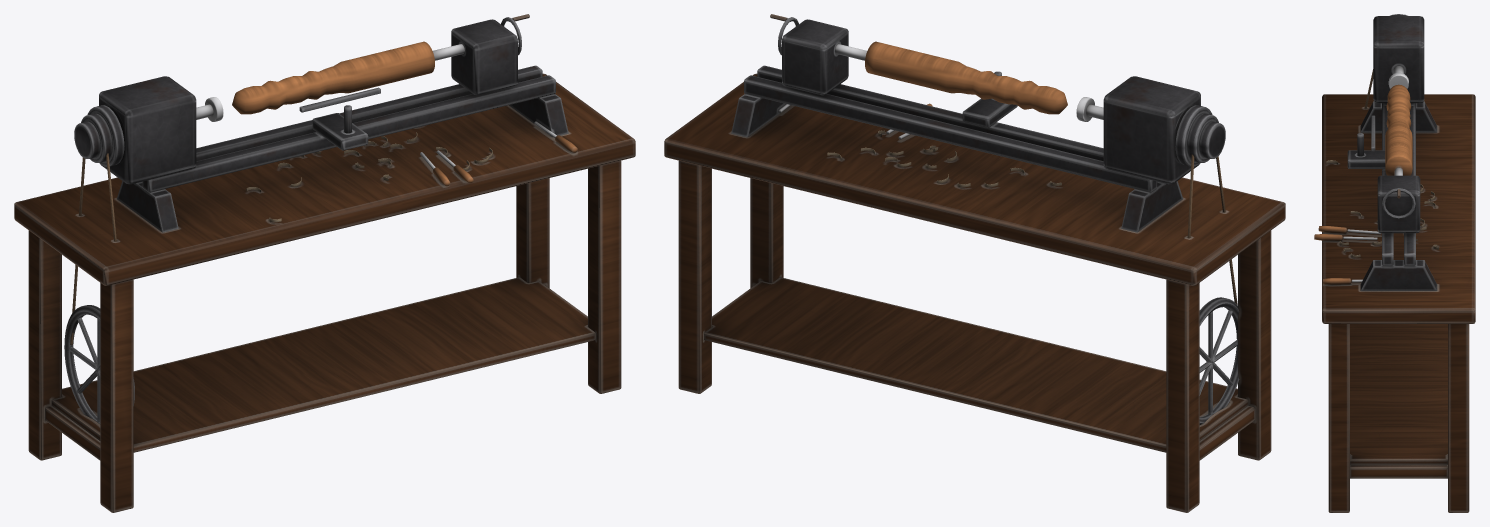
The model's file is WoodLathe.fbx.
3 renders of one model, left to right at view 1: azimuth 30°, elevation 25°; view 2: azimuth 150°, elevation 25°; view 3: azimuth 270°, elevation 25°, orthographic. The views are drawn at different scales.
Parts seen in each view (by area): view 1: WoodLathe; view 2: WoodLathe; view 3: WoodLathe.
Part boxes in pixels (bbox=[...]): WoodLathe: bbox=[14, 14, 635, 512]; WoodLathe: bbox=[664, 14, 1285, 512]; WoodLathe: bbox=[1314, 14, 1475, 512].
Size of the model in its own units: 600 by 400 by 189.
